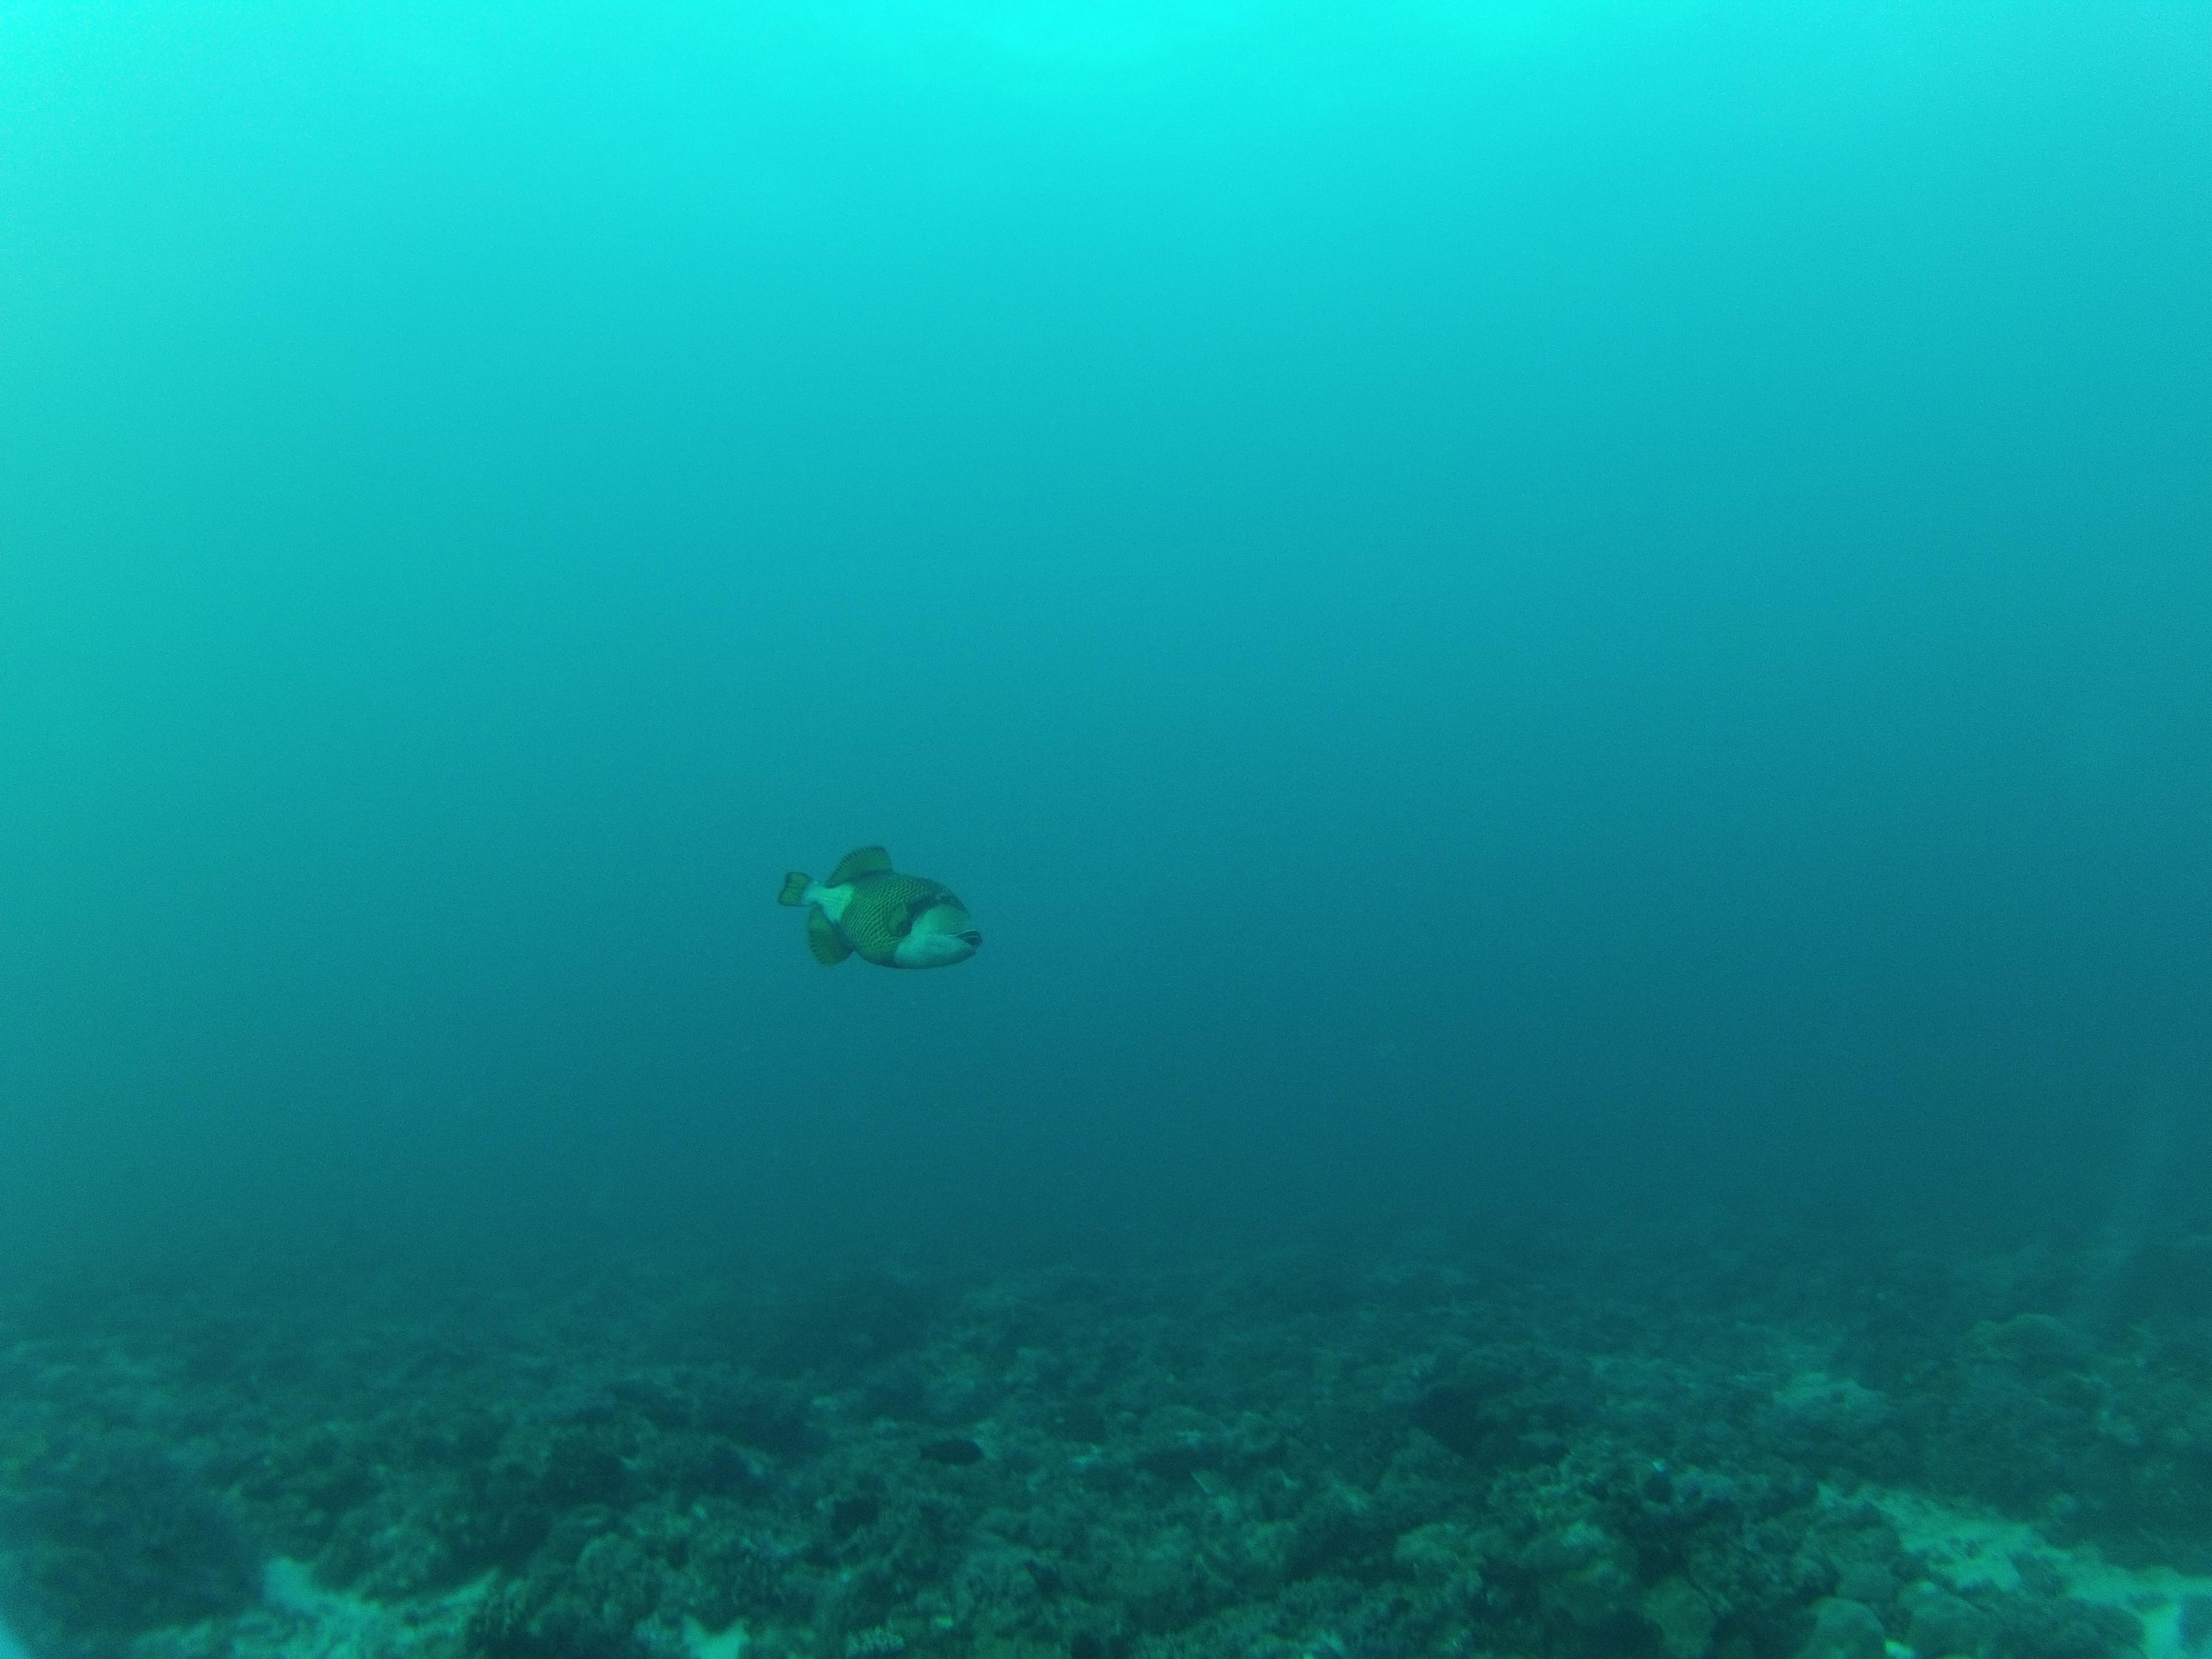Fish: (653, 746, 1141, 1108)
